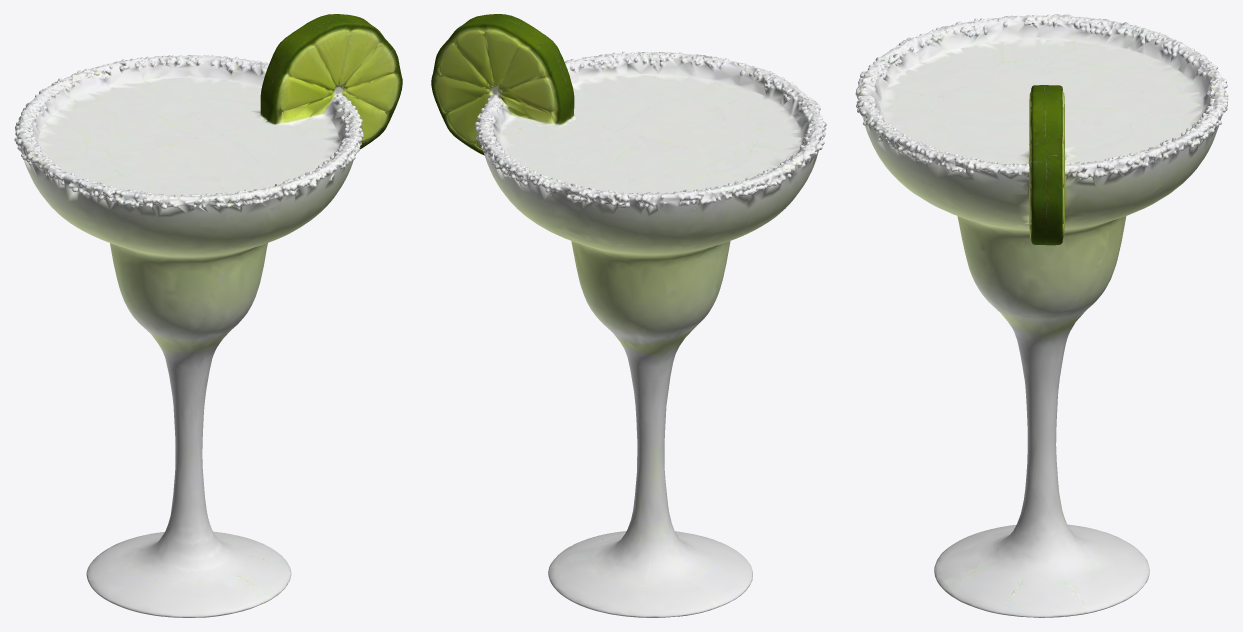
File: margarita.glb
3 views of the same model, side by side, from view 1: azimuth 30°, elevation 25°; view 2: azimuth 150°, elevation 25°; view 3: azimuth 270°, elevation 25° (orthographic). The views are drawn at different scales.
Visible parts, largest first — view 1: mesh_node; view 2: mesh_node; view 3: mesh_node.
Part boxes in pixels (bbox=[...]): mesh_node: bbox=[14, 14, 402, 617]; mesh_node: bbox=[431, 14, 826, 617]; mesh_node: bbox=[855, 14, 1228, 617].
Size of the model in its own units: 0.0868 by 0.12 by 0.0726.
Materials: 1 (1 with a texture image).
